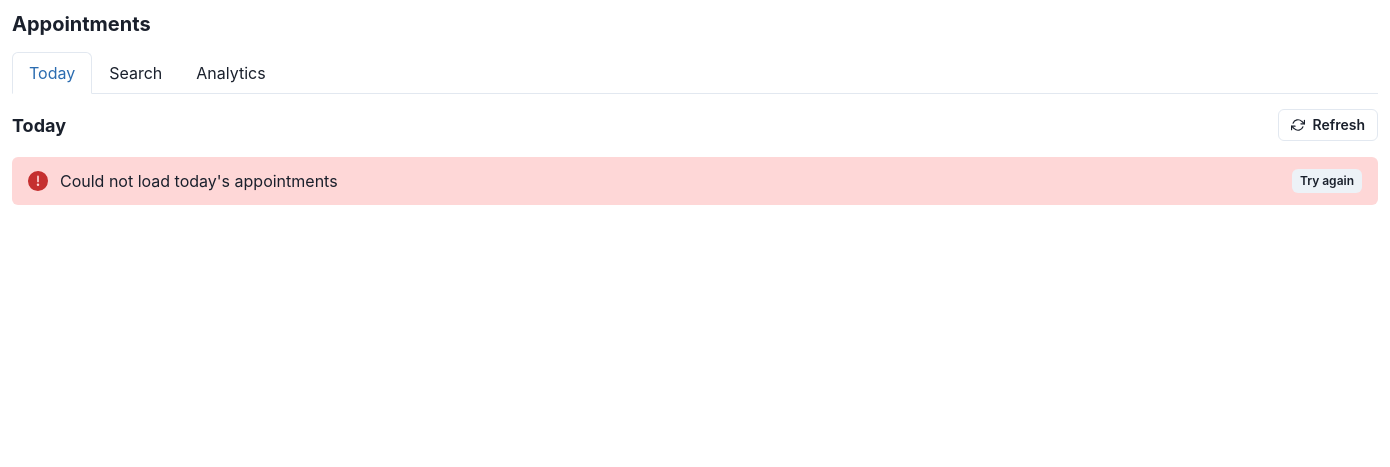
Test: Admin Appointments - Today › shows the server message with a retry when loading fails
Expected: the text "Could not load today's appointments" is shown, [60,171,338,191]
Click the button "Try again": (1327, 181) [1292,169,1362,193]
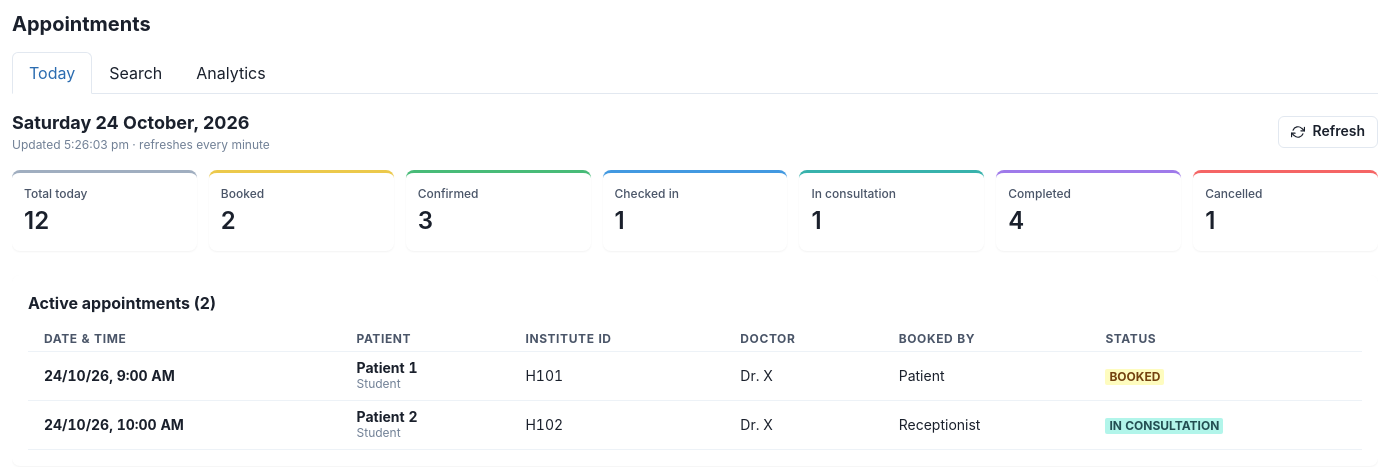
Expected: the text "Patient 1" is shown, [356,359,417,376]
Expected: the text "Could not load today's appointments" is gone
